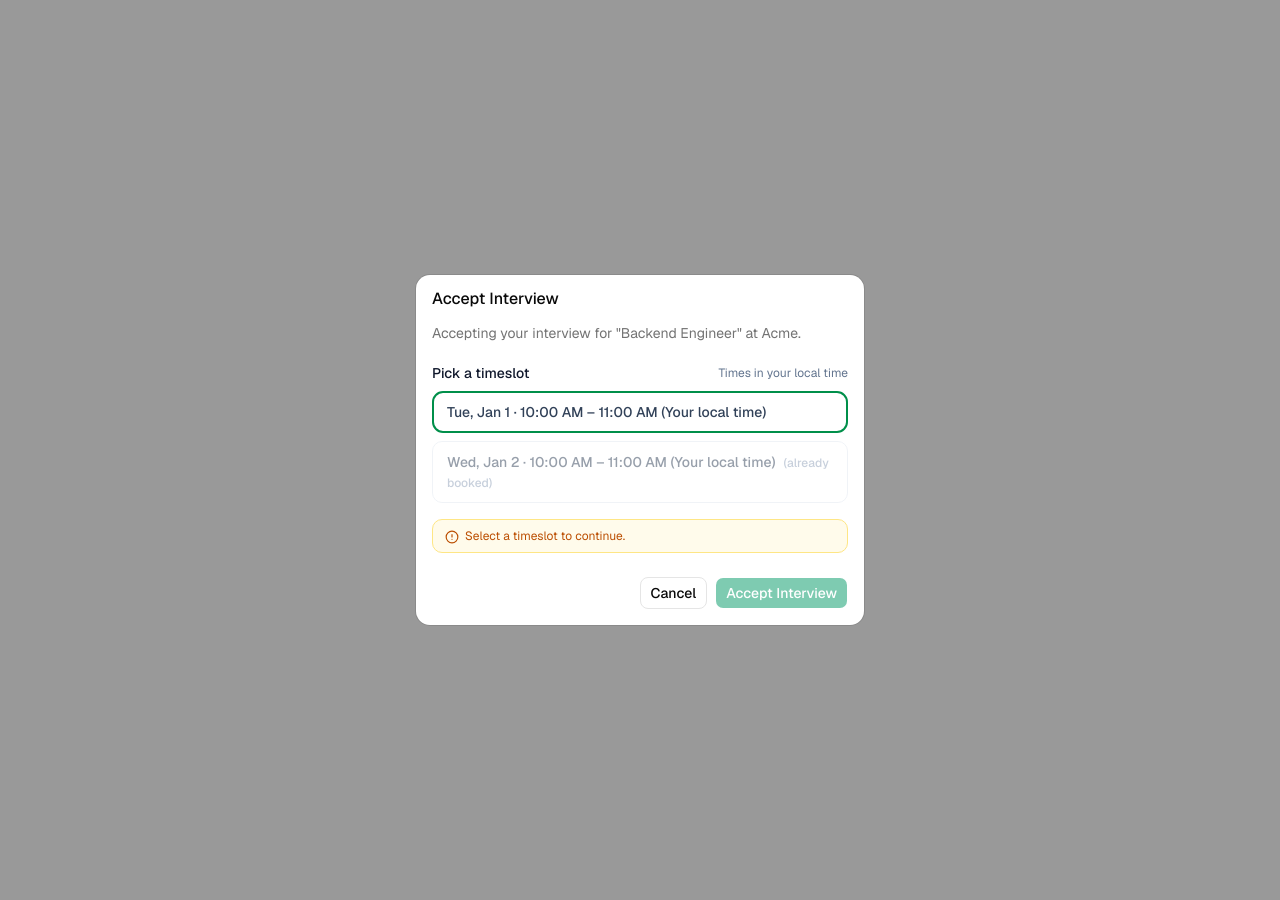
Test: AcceptInterviewDialog › requires a timeslot choice before the confirm button is enabled
The width and height of the screenshot is (1280, 900).
Check: the button "Accept Interview" is disabled, box [715,577,848,609]
Check: the text "Select a timeslot to continue." is shown, box [432,519,848,553]
Click the radio button labelled "Tue, Jan 1 · 10:00 AM – 11:00 AM (Your local time)" at (640, 412), box [432,391,848,433]
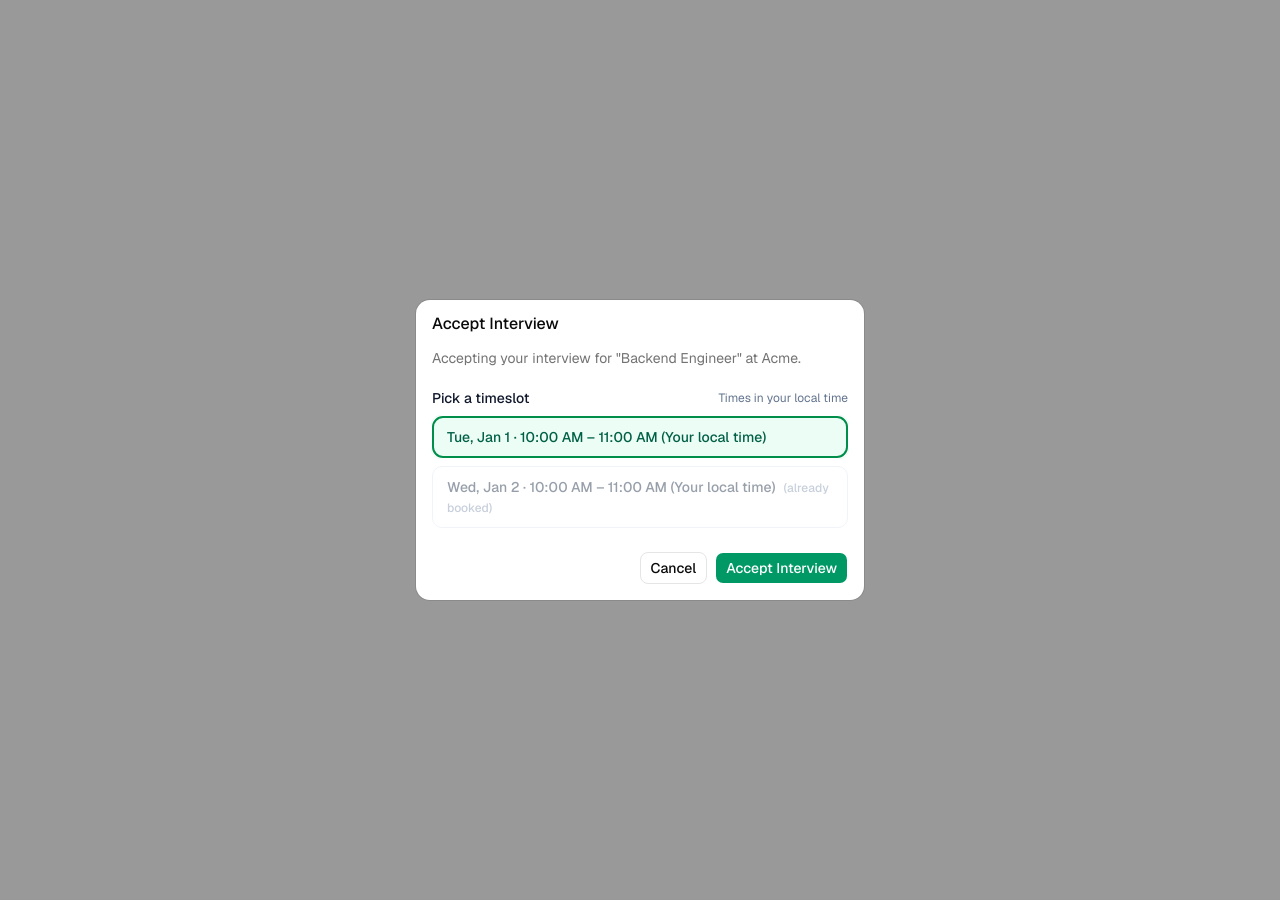
Check: the button "Accept Interview" is enabled, box [715,552,848,584]
